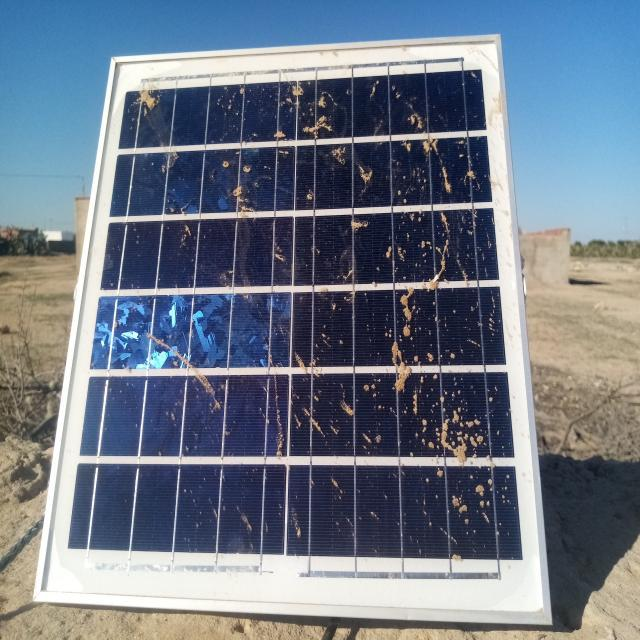faulty: (37, 37, 555, 624)
